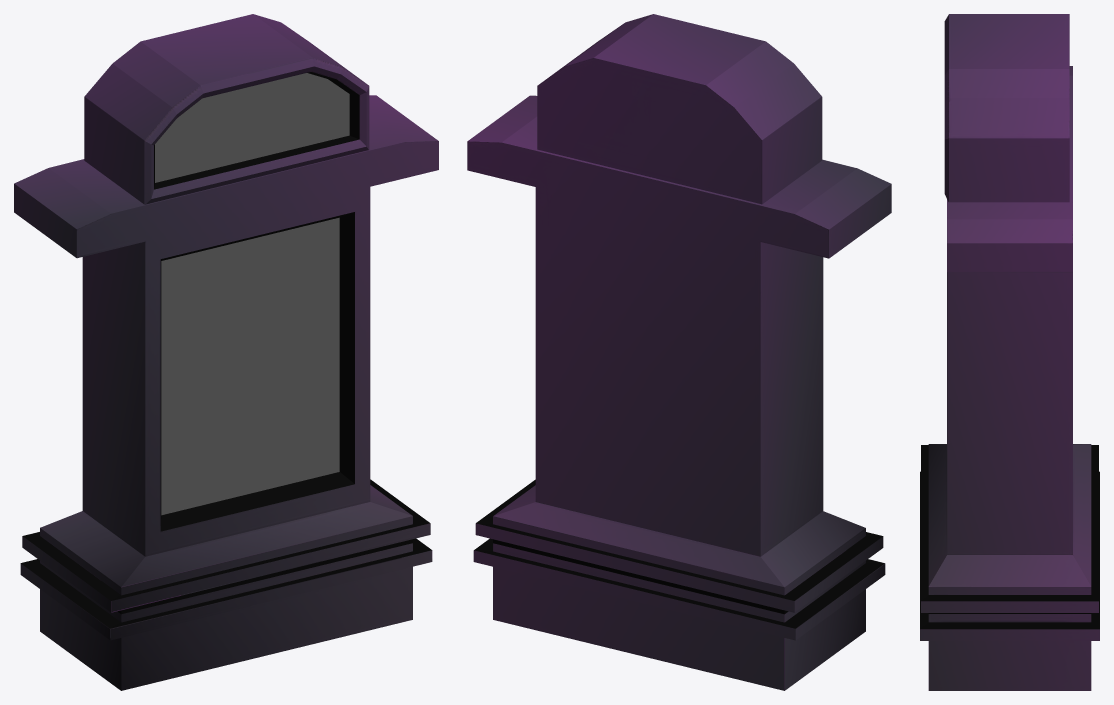
3 views of the same model, side by side, from view 1: azimuth 30°, elevation 25°; view 2: azimuth 150°, elevation 25°; view 3: azimuth 270°, elevation 25° (orthographic).
Parts seen in each view (by area): view 1: grave2; view 2: grave2; view 3: grave2.
Boxes of the visible parts, x1,y1,x2,y2 form: grave2: (14,14,438,690); grave2: (467,14,891,690); grave2: (920,14,1099,690).
Bounding box in the file's own units: 322 × 489 × 138.
Materials: 3 (1 with a texture image).
